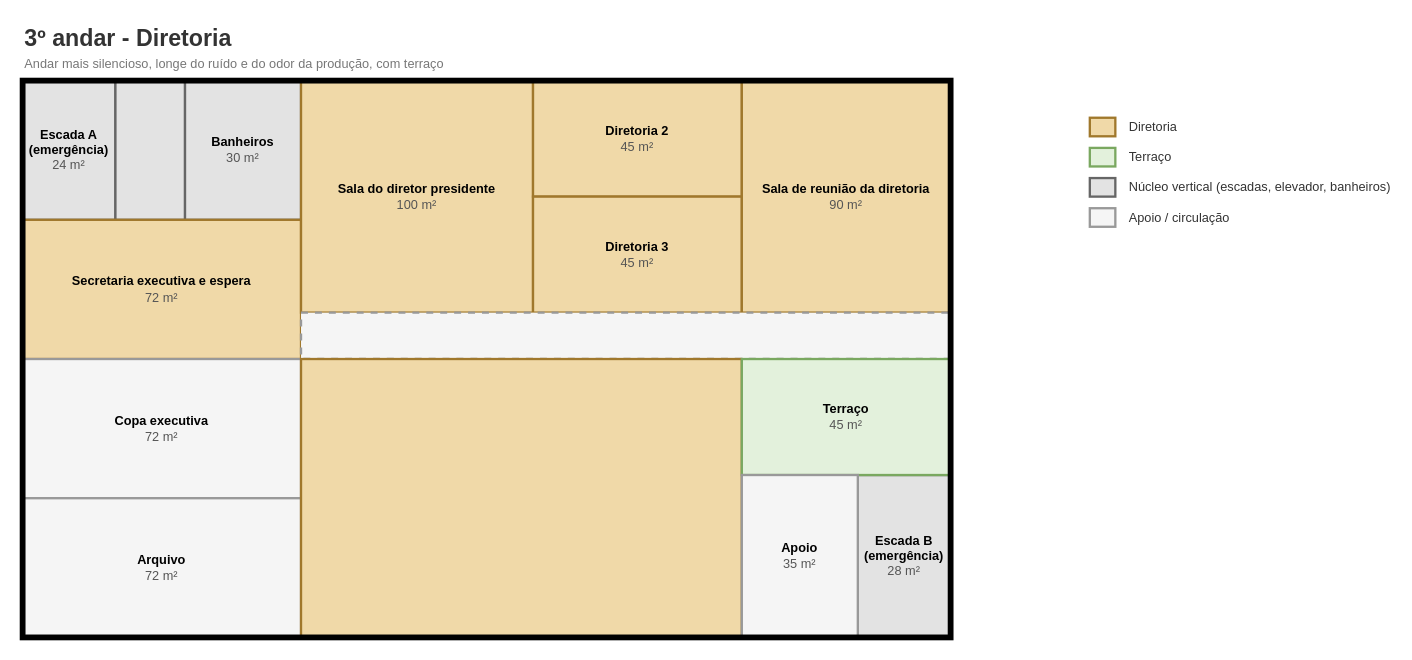
The diagram is 1412 pixels wide and 660 high, and some of its shapes have lost their labels. The shapes that lost their labels are listed below. From the top down, each one's centre as x and y in pixels, then its label:
pixel 150 149: Elevador 18 m²
pixel 625 335: Circulação
pixel 520 497: Área de estar e apresentações 228 m²
